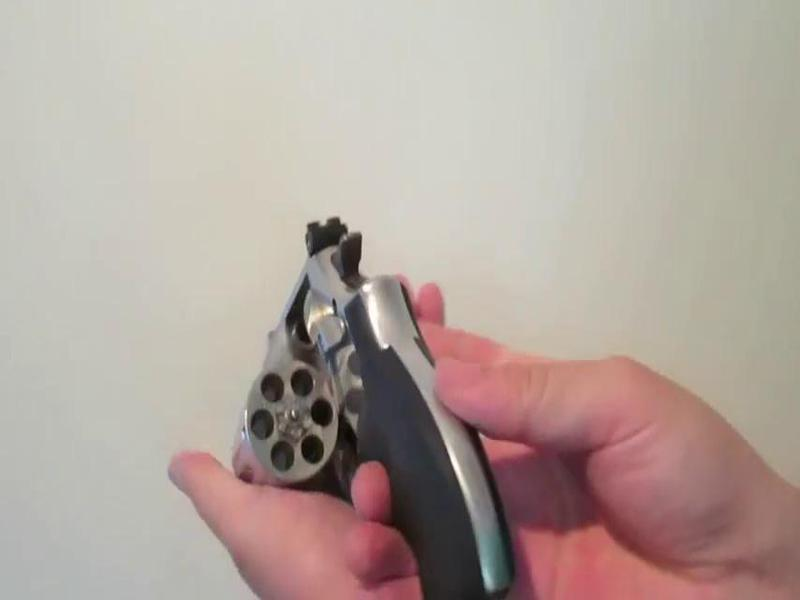Revolver: (204, 206, 567, 600)
